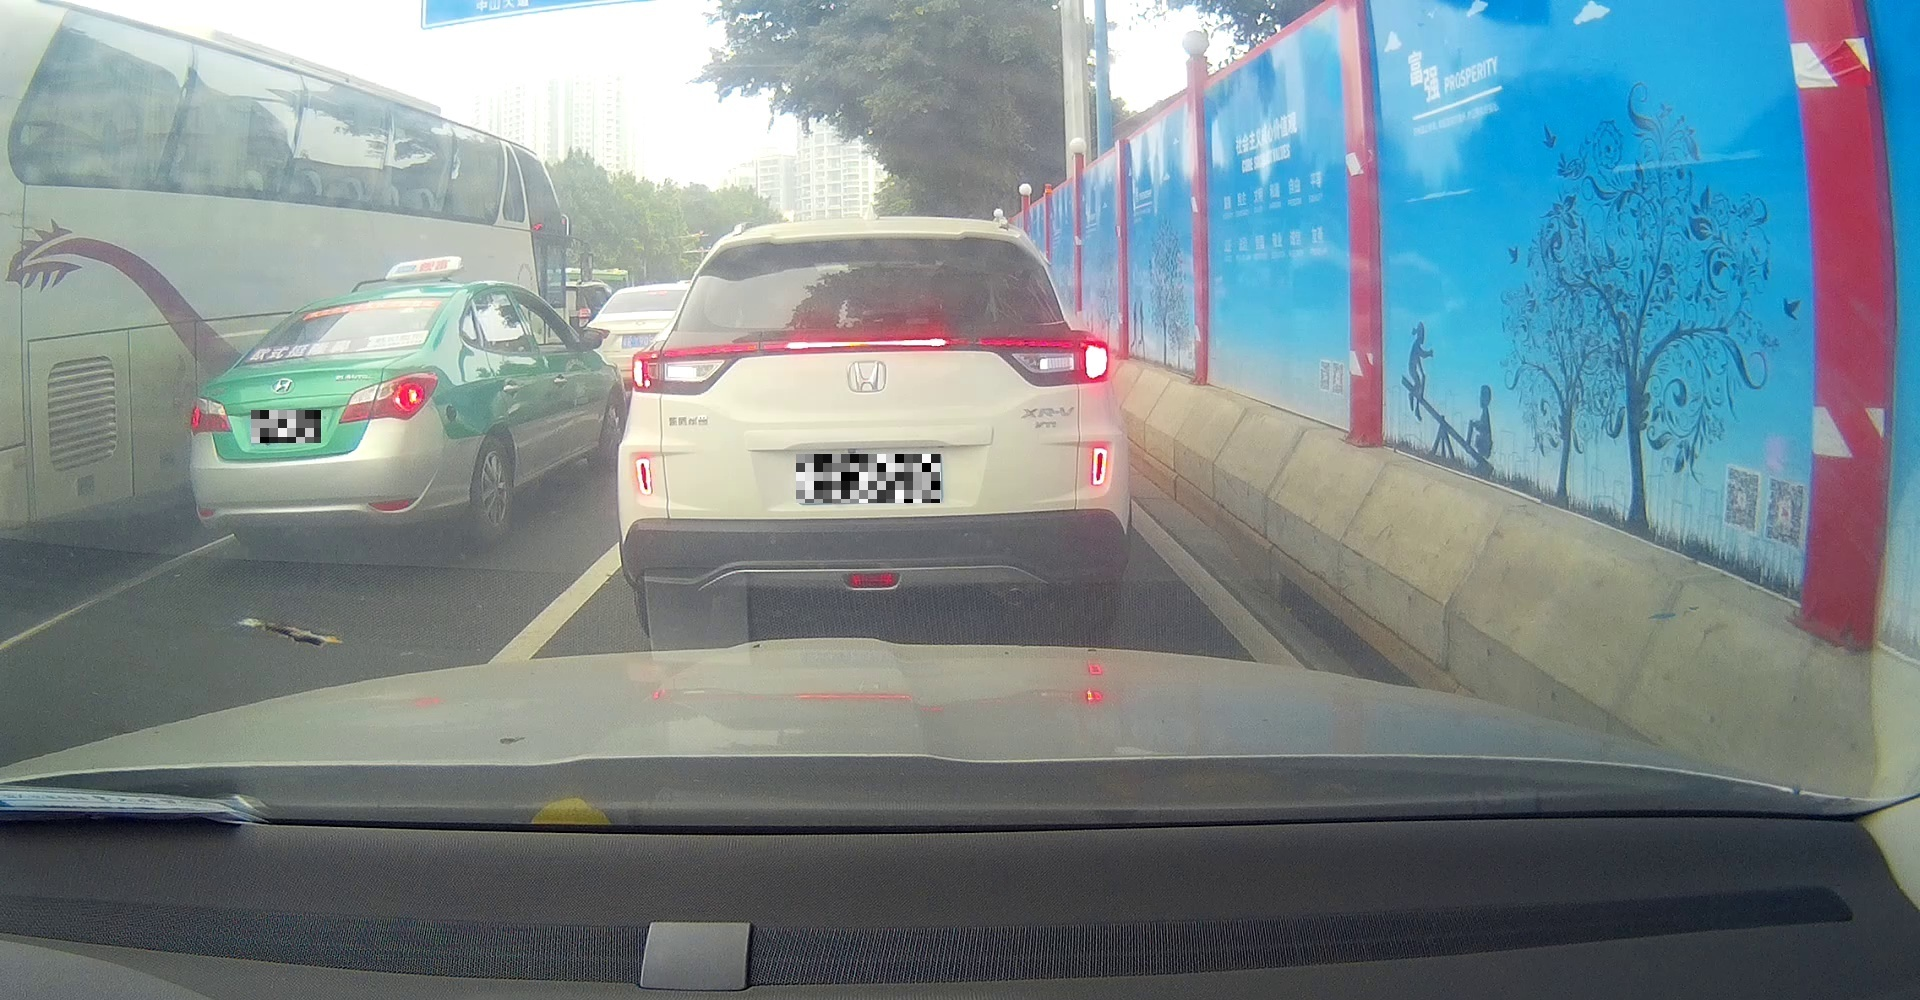L_light: (627, 346, 739, 395), (190, 397, 232, 437)
R_light: (994, 334, 1109, 388), (337, 371, 439, 424)
T_light: (761, 338, 964, 352), (352, 297, 383, 305)
day-brake: (617, 216, 1128, 645), (187, 283, 467, 547)
plate_1: (251, 410, 321, 443)
plate_2: (796, 454, 941, 503)
